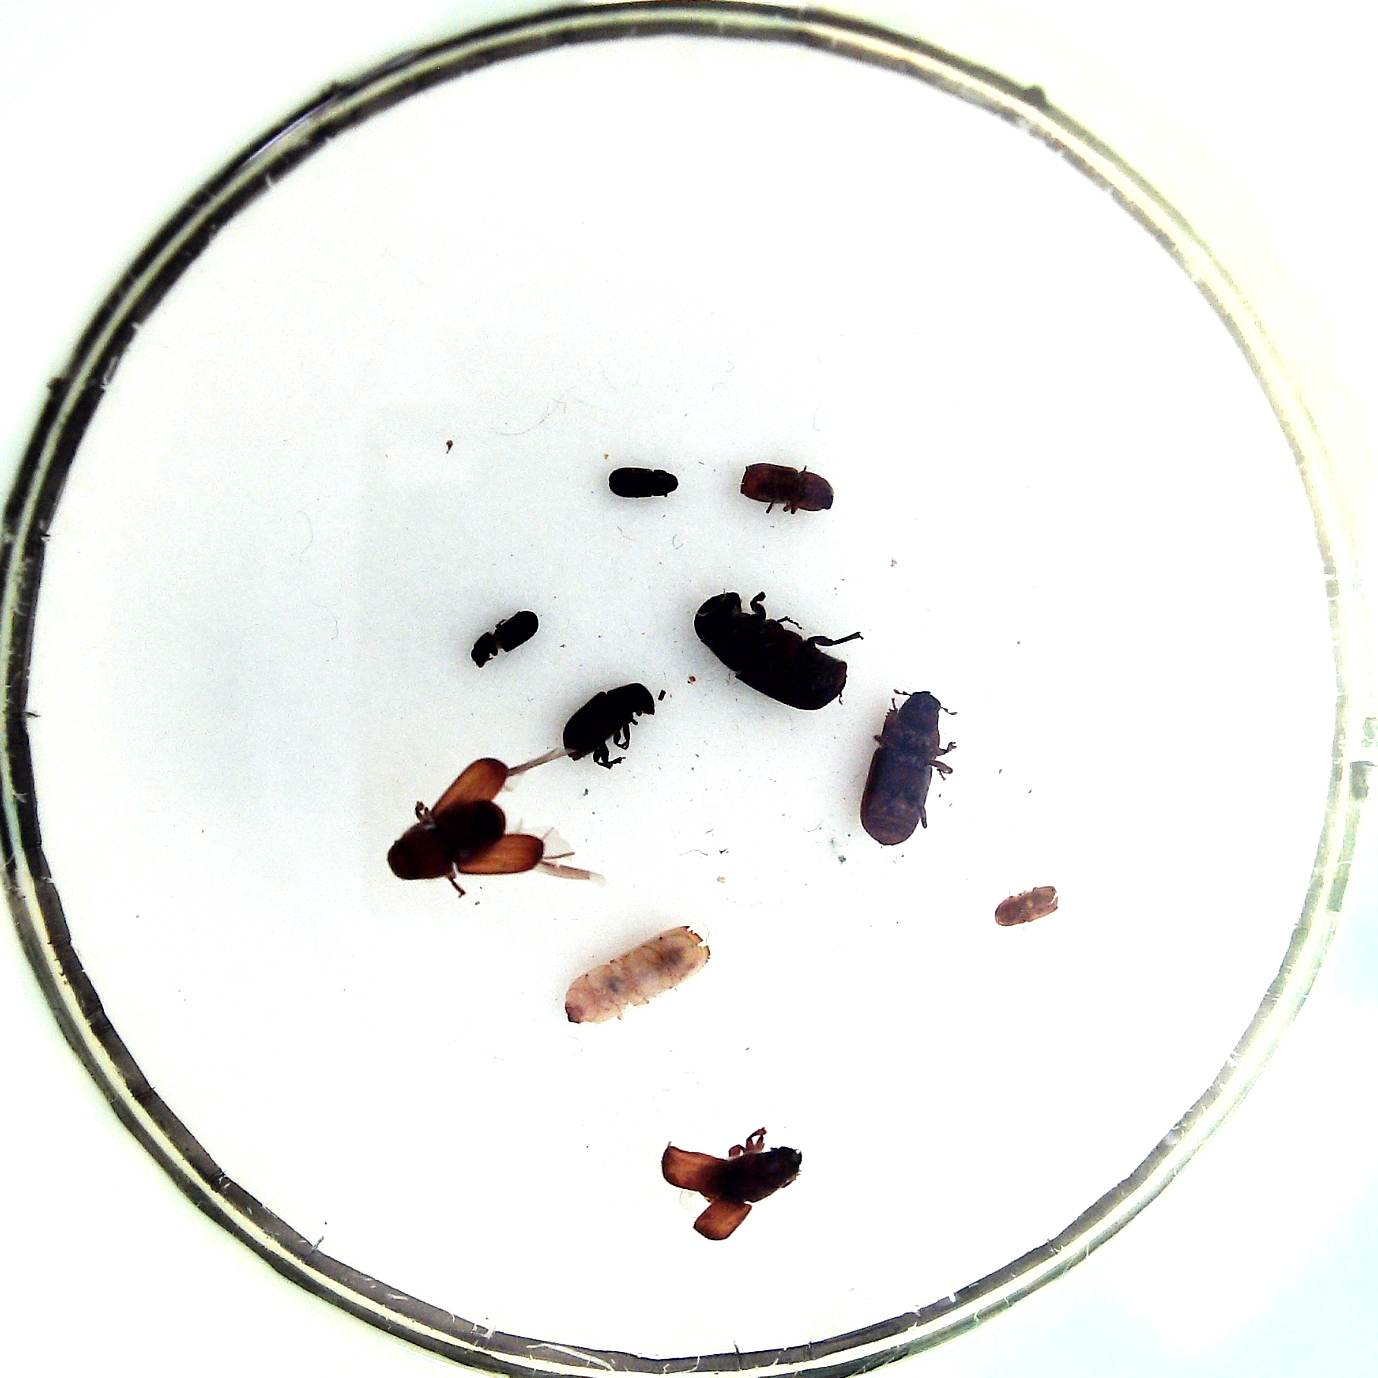Boerner: (564, 925, 710, 1025)
Leconte: (694, 591, 849, 710), (861, 692, 941, 845), (386, 799, 507, 880), (698, 1147, 804, 1206)
acuminatus: (471, 609, 539, 668)
armandi: (563, 681, 657, 762)
coleoptera: (994, 885, 1057, 926), (609, 466, 679, 498)
linnaeus: (739, 462, 834, 515)
